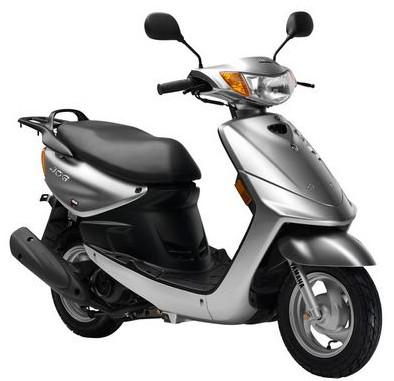motor: (16, 16, 387, 373)
